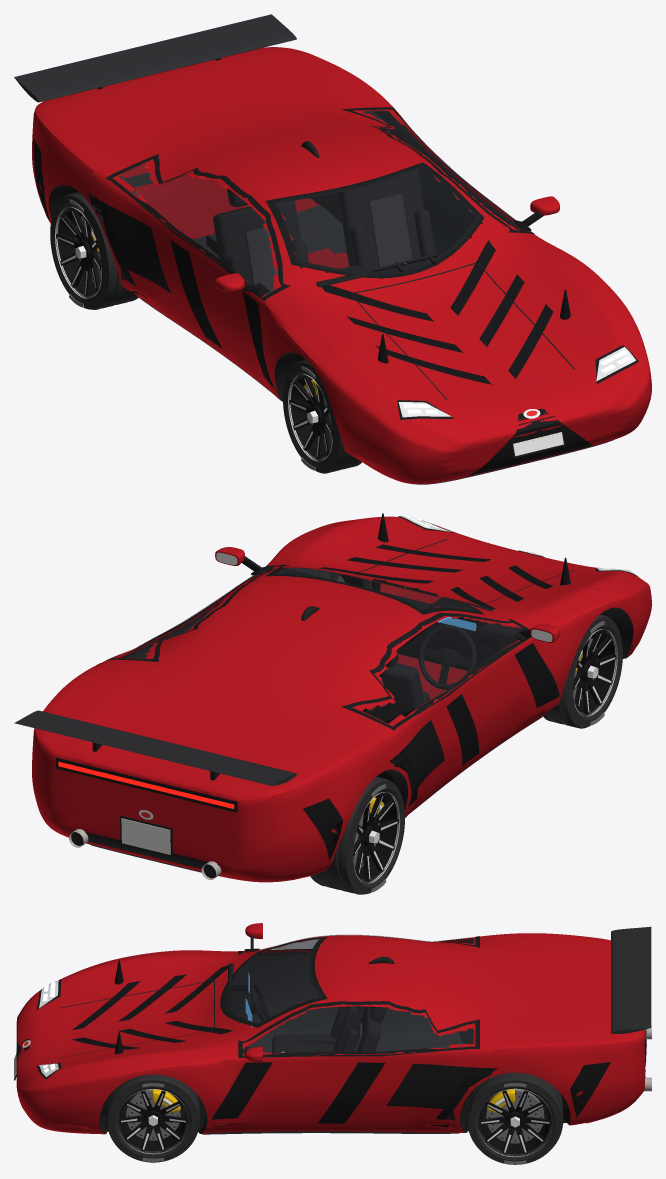
Rendered from samurai.glb.
The picture shows the model from 3 angles, top to bottom: view 1: azimuth 30°, elevation 25°; view 2: azimuth 150°, elevation 25°; view 3: azimuth 270°, elevation 25°; orthographic projection. The views are drawn at different scales.
Visible parts, largest first — view 1: Body, Wheel_RR, Wheel_FR; view 2: Body, Wheel_RR, Wheel_FR; view 3: Body, Wheel_RL, Wheel_FL.
Boxes of the visible parts, x1,y1,x2,y2 form: Body: (14, 14, 651, 484); Wheel_RR: (50, 192, 138, 309); Wheel_FR: (283, 359, 361, 473); Body: (14, 513, 651, 882); Wheel_RR: (310, 776, 404, 894); Wheel_FR: (543, 614, 622, 728); Body: (14, 923, 651, 1134); Wheel_RL: (467, 1072, 562, 1164); Wheel_FL: (107, 1074, 199, 1162).
Size of the model in its own units: 2.31 by 1.22 by 4.67.
